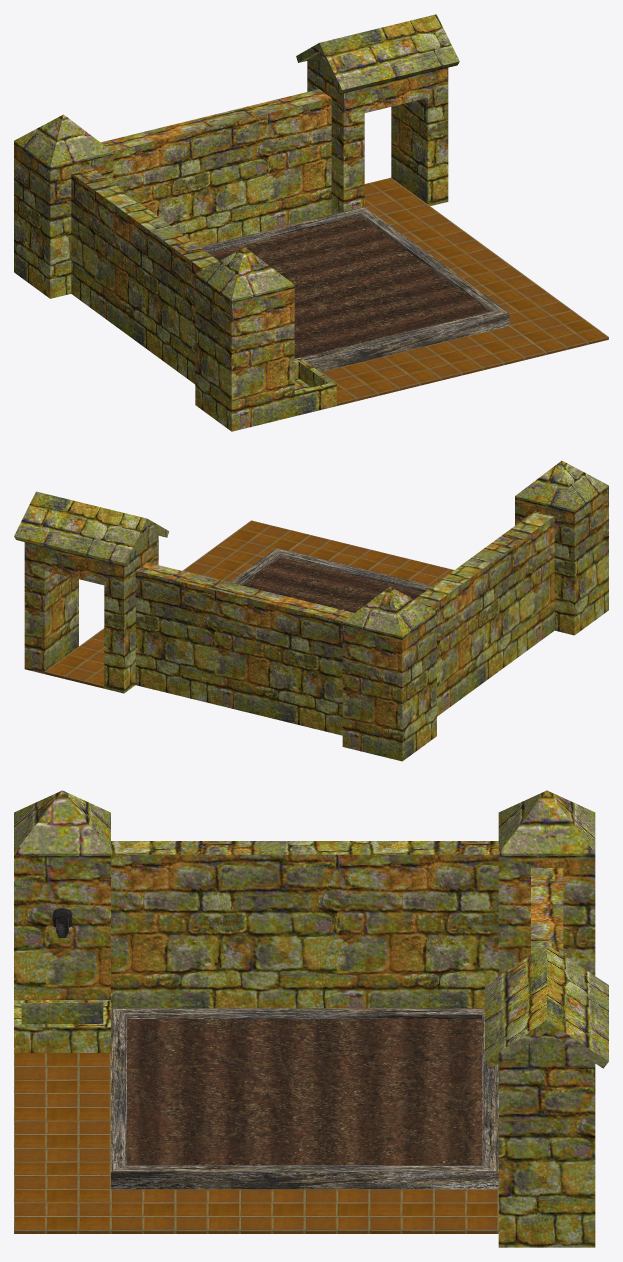
The model's file is CornerGarden.FBX.
3 renders of one model, top to bottom at view 1: azimuth 30°, elevation 25°; view 2: azimuth 150°, elevation 25°; view 3: azimuth 270°, elevation 25°, orthographic. The views are drawn at different scales.
Parts seen in each view (by area): view 1: Raised Bed, Gate Wall, Gateway, Wall, Planter Tower, Pillar Corner, Walkway Short, Walkway, Walkway Center, Walkway Raised; view 2: Gate Wall, Gateway, Wall, Pillar Corner, Planter Tower, Raised Bed, Walkway Short, Walkway, Walkway Center, Walkway Raised; view 3: Raised Bed, Wall, Gateway, Planter Tower, Walkway, Walkway Short, Pillar Corner, Walkway Center, Gate Wall.
Part boxes in pixels (x1,y1,x2,y2): Raised Bed: [200, 206, 509, 371]; Gate Wall: [101, 89, 331, 246]; Gateway: [296, 14, 459, 214]; Wall: [71, 168, 218, 384]; Planter Tower: [195, 247, 336, 431]; Pillar Corner: [14, 114, 113, 298]; Walkway Short: [320, 326, 545, 405]; Walkway: [378, 204, 572, 325]; Walkway Center: [510, 310, 608, 354]; Walkway Raised: [364, 177, 427, 215]; Gate Wall: [135, 562, 354, 735]; Gateway: [14, 491, 169, 693]; Wall: [414, 511, 554, 716]; Pillar Corner: [342, 586, 436, 761]; Planter Tower: [515, 460, 608, 635]; Raised Bed: [229, 548, 432, 612]; Walkway Short: [289, 535, 454, 585]; Walkway: [79, 545, 263, 652]; Walkway Center: [217, 520, 310, 556]; Walkway Raised: [44, 646, 104, 688]; Raised Bed: [111, 1008, 498, 1189]; Wall: [111, 841, 498, 1008]; Gateway: [485, 945, 608, 1247]; Planter Tower: [14, 790, 110, 1052]; Walkway: [111, 1189, 498, 1233]; Walkway Short: [14, 1053, 110, 1189]; Pillar Corner: [498, 790, 595, 975]; Walkway Center: [14, 1189, 110, 1233]; Gate Wall: [531, 868, 563, 954].
Bounding box in the file's own units: 1930 × 788 × 1842.
Materials: 5 (5 with a texture image).
